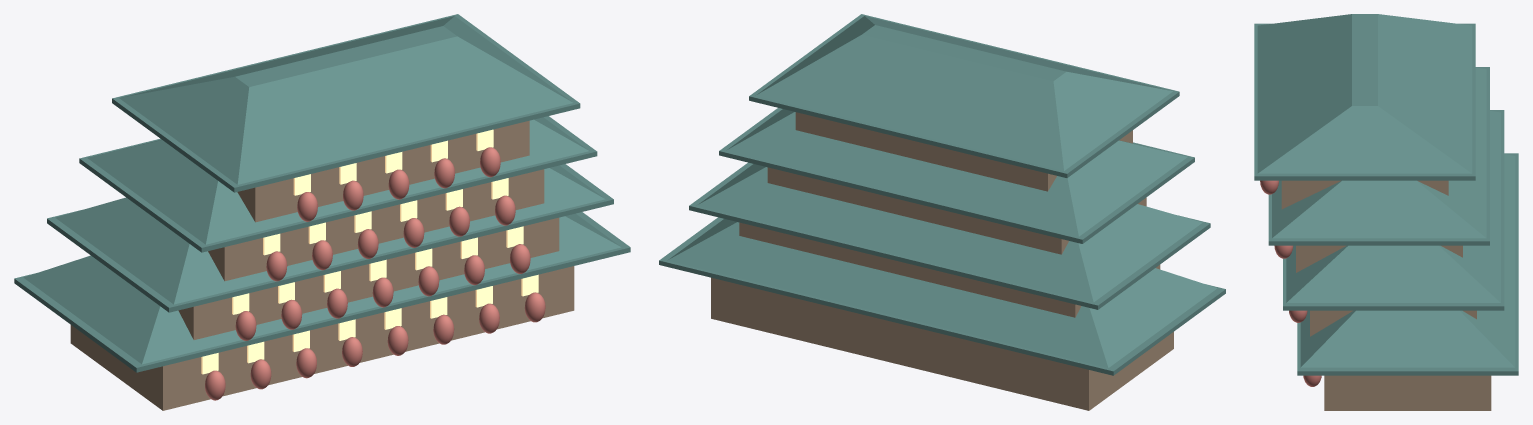
The model's file is teahouse.glb.
The picture shows the model from 3 angles, left to right: view 1: azimuth 30°, elevation 25°; view 2: azimuth 150°, elevation 25°; view 3: azimuth 270°, elevation 25°; orthographic projection. The views are drawn at different scales.
Visible parts, largest first — view 1: teahouse; view 2: teahouse; view 3: teahouse.
Part boxes in pixels (left/top/right/bottom): teahouse: left=14, top=14, right=630, bottom=410; teahouse: left=659, top=14, right=1225, bottom=410; teahouse: left=1254, top=14, right=1518, bottom=410.
Bounding box in the file's own units: 21.63 × 12.04 × 11.07.
